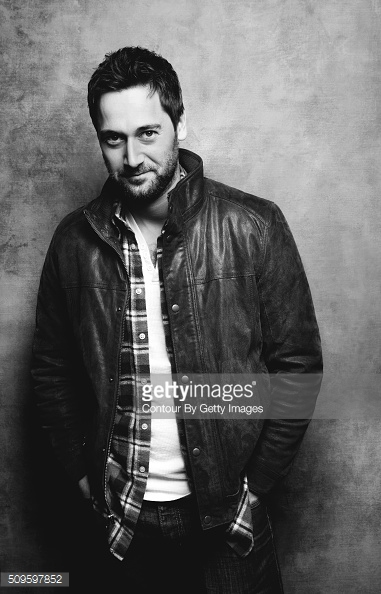em pe: (31, 47, 299, 589)
